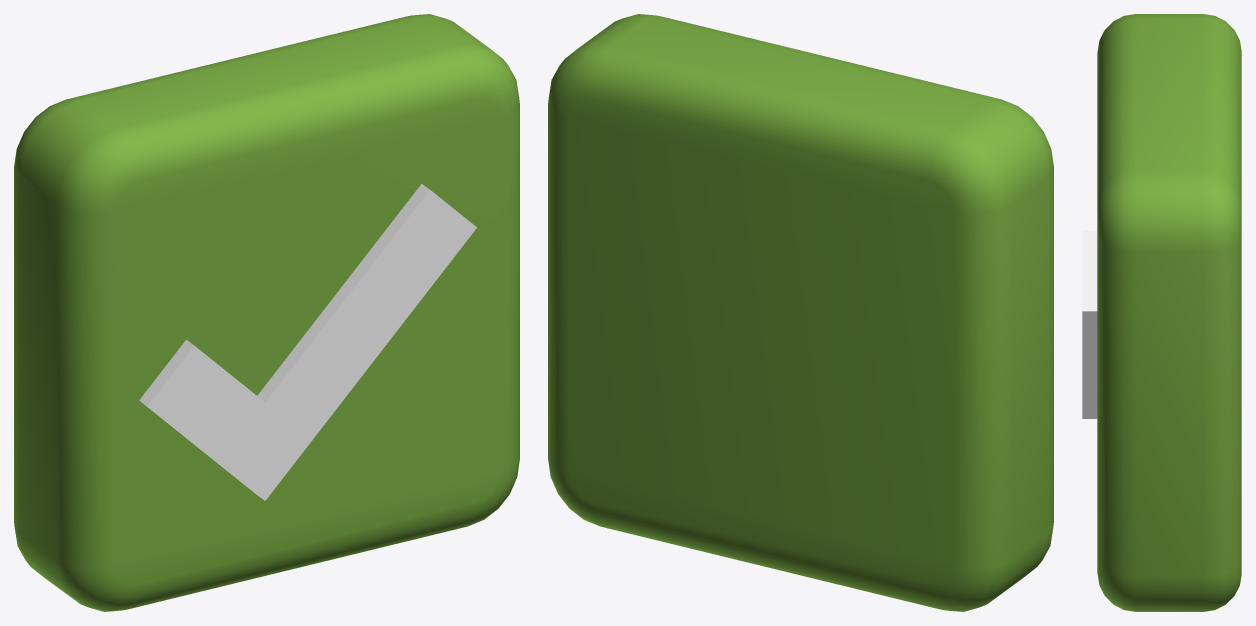
File: check_mark_button.gltf
The picture shows the model from 3 angles, left to right: view 1: azimuth 30°, elevation 25°; view 2: azimuth 150°, elevation 25°; view 3: azimuth 270°, elevation 25°; orthographic projection. The views are drawn at different scales.
Visible parts, largest first — view 1: Cube.6458; view 2: Cube.6458; view 3: Cube.6458.
Boxes of the visible parts, x1=… form: Cube.6458: x1=14, y1=14, x2=519, y2=611; Cube.6458: x1=548, y1=14, x2=1053, y2=611; Cube.6458: x1=1082, y1=14, x2=1241, y2=611.
Size of the model in its own units: 2.2 by 2.2 by 0.73.
Materials: 1 (1 with a texture image).
